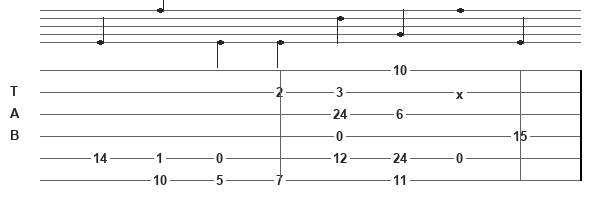0: (216, 151, 227, 165), (336, 129, 347, 143), (456, 151, 467, 165)
1: (156, 151, 167, 165)
10: (153, 173, 171, 187), (393, 63, 411, 77)
11: (393, 173, 411, 187)
12: (333, 151, 351, 165)
14: (93, 151, 111, 165)
15: (513, 129, 531, 143)
2: (276, 85, 287, 99)
24: (333, 107, 351, 121), (393, 151, 411, 165)
3: (336, 85, 347, 99)
5: (216, 173, 227, 187)
6: (396, 107, 407, 121)
7: (276, 173, 287, 187)
x: (456, 87, 468, 98)
